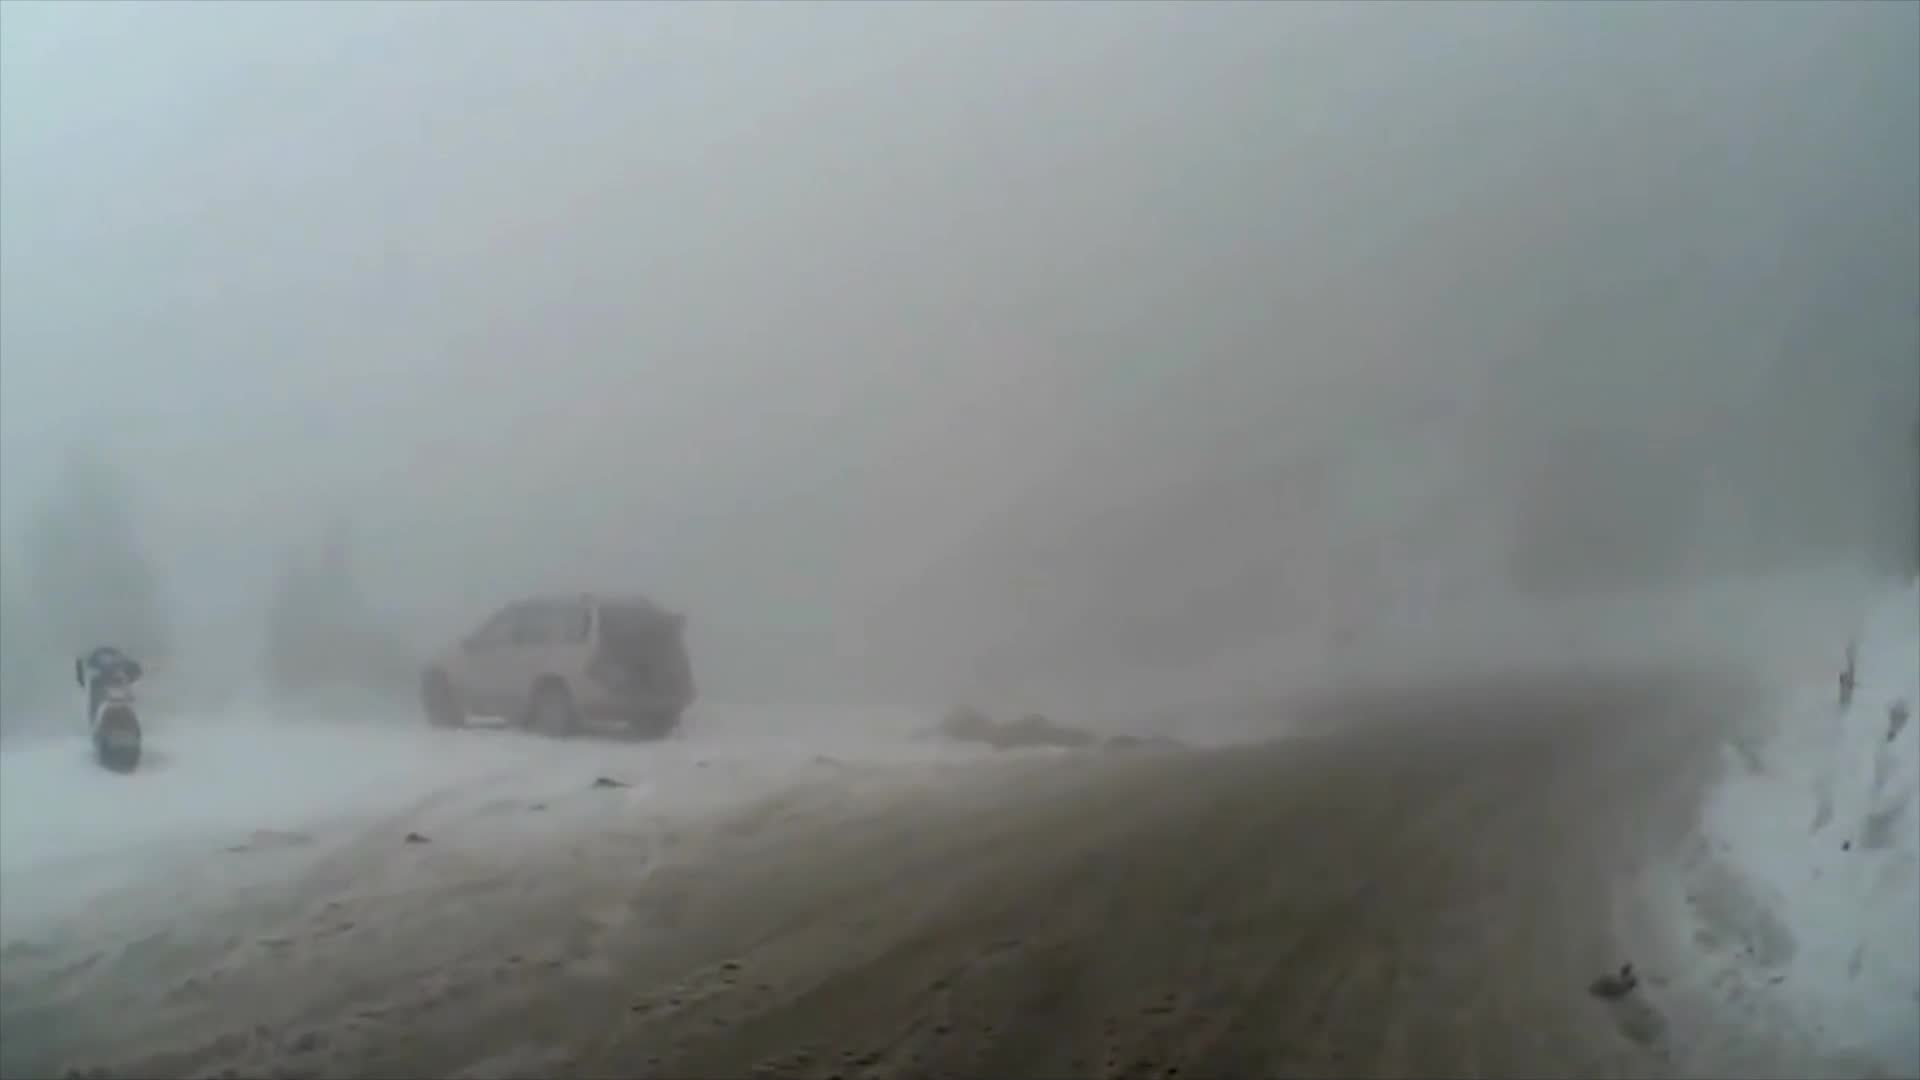vehicle: (410, 592, 691, 752)
